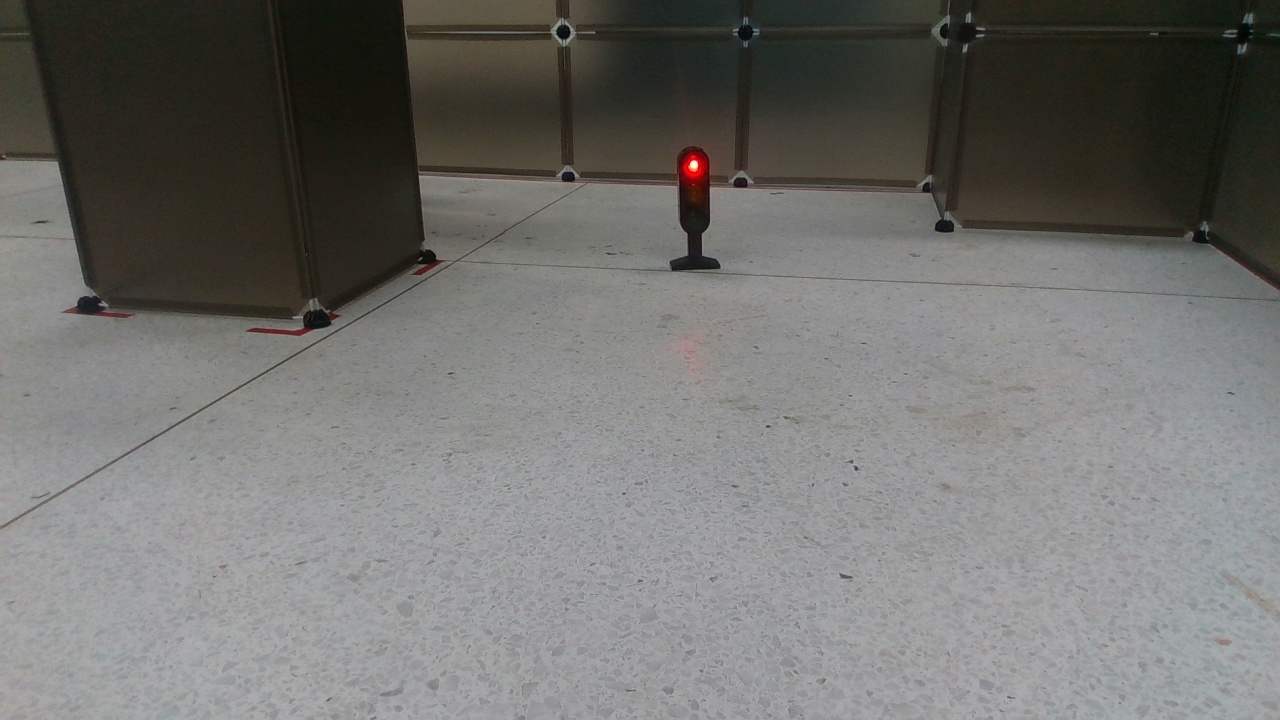Red traffic light: (665, 142, 723, 274)
